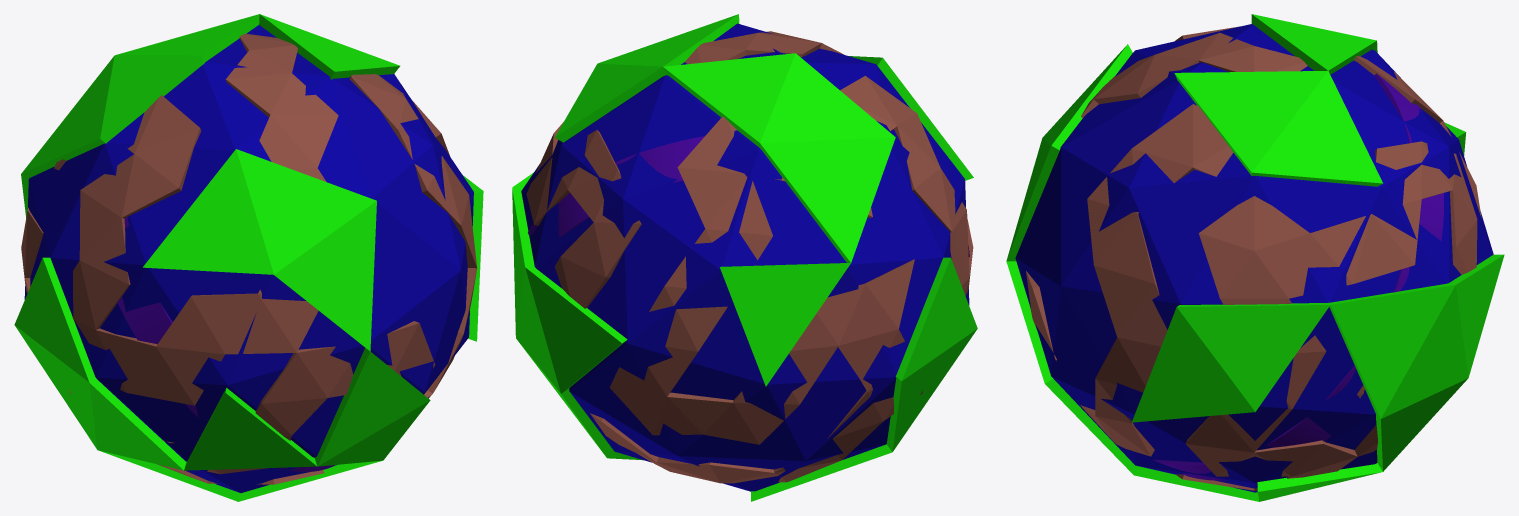
The model's file is space.glb.
3 renders of one model, left to right at view 1: azimuth 30°, elevation 25°; view 2: azimuth 150°, elevation 25°; view 3: azimuth 270°, elevation 25°, orthographic. The views are drawn at different scales.
Parts seen in each view (by area): view 1: Icosphere, Icosphere.001, planet6, planet3; view 2: Icosphere.001, Icosphere, planet6, planet3; view 3: Icosphere.001, Icosphere, planet6, planet3.
Part boxes in pixels (<box>): Icosphere: <box>14,14,483,501</box>; Icosphere.001: <box>24,25,473,492</box>; planet6: <box>21,33,477,484</box>; planet3: <box>117,217,335,471</box>; Icosphere.001: <box>521,23,969,491</box>; Icosphere: <box>512,14,977,501</box>; planet6: <box>526,31,973,483</box>; planet3: <box>528,136,969,256</box>; Icosphere.001: <box>1015,24,1493,492</box>; Icosphere: <box>1006,14,1504,501</box>; planet6: <box>1026,26,1481,490</box>; planet3: <box>1153,73,1443,480</box>.
Size of the model in its own units: 206 by 206 by 211.
